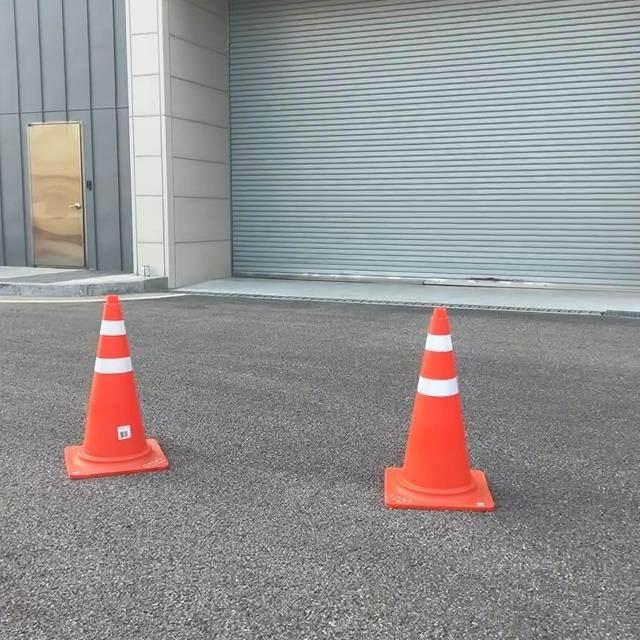fallen_object: (326, 290, 498, 530), (39, 286, 164, 504)
